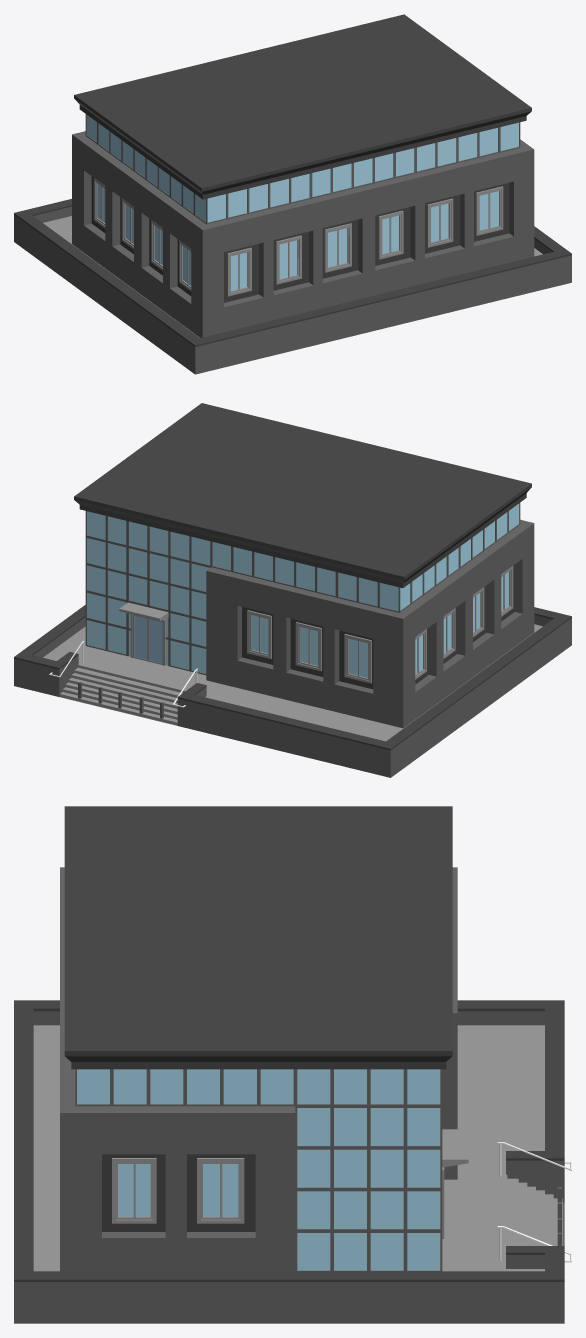
Rendered from office-transformed.glb.
3 views of the same model, one above another, from view 1: azimuth 30°, elevation 25°; view 2: azimuth 150°, elevation 25°; view 3: azimuth 270°, elevation 25° (orthographic). The views are drawn at different scales.
Parts seen in each view (by area): view 1: office; view 2: office; view 3: office.
Boxes of the visible parts, bbox=[...] form: office: bbox=[14, 14, 571, 374]; office: bbox=[14, 403, 571, 777]; office: bbox=[14, 806, 571, 1323].
Size of the model in its own units: 17.41 by 7.43 by 14.7.
Materials: 1 (1 with a texture image).
